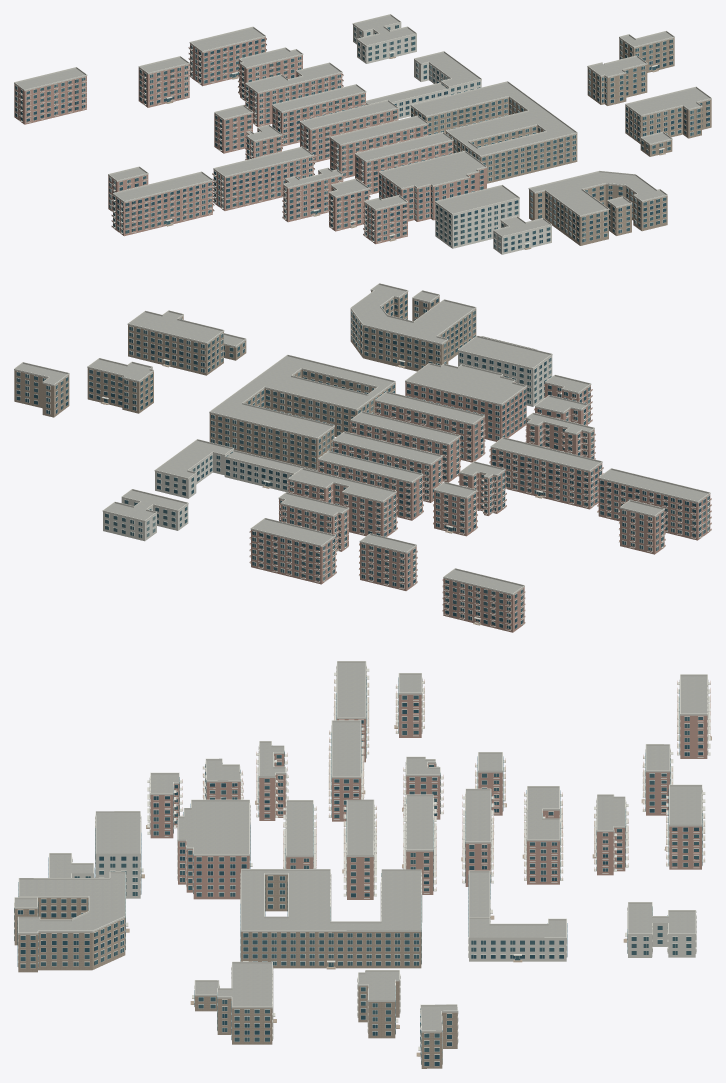
The model's file is chunk-n2-n2.glb.
The picture shows the model from 3 angles, top to bottom: view 1: azimuth 30°, elevation 25°; view 2: azimuth 150°, elevation 25°; view 3: azimuth 270°, elevation 25°; orthographic projection. The views are drawn at different scales.
Parts seen in each view (by area): view 1: chunk-n2-n2; view 2: chunk-n2-n2; view 3: chunk-n2-n2.
Boxes of the visible parts, bbox=[...] form: chunk-n2-n2: bbox=[14, 14, 711, 254]; chunk-n2-n2: bbox=[14, 283, 711, 632]; chunk-n2-n2: bbox=[14, 661, 711, 1068].
Size of the model in its own units: 370 by 26.01 by 296.
Materials: 6 (2 with a texture image).
